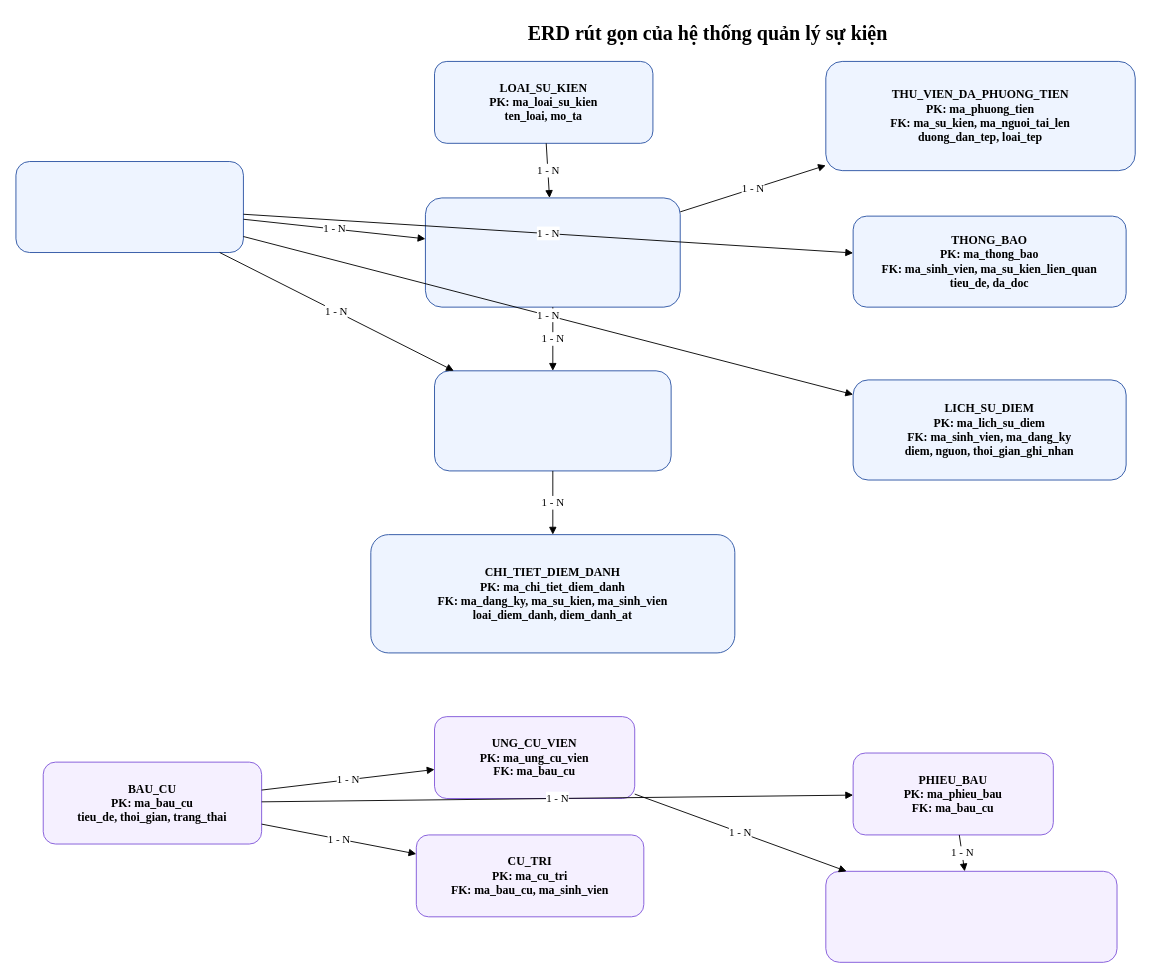
Some shapes in this 1151 by 978 pixel diagram are drawn without their labels. Here are the shapes that lost their labels. From the top down, the box of each, then its label:
(15, 161, 243, 253): NGUOI_DUNG PK: ma_sinh_vien vai_tro, ho_ten, lop, email
(425, 197, 680, 307): SU_KIEN PK: ma_su_kien FK: ma_loai_su_kien ten, thoi_gian, dia_diem, diem_cong
(434, 370, 671, 471): DANG_KY PK: ma_dang_ky FK: ma_sinh_vien, ma_su_kien trang_thai_tham_gia
(825, 870, 1117, 962): CHI_TIET_PHIEU_BAU PK: ma_chi_tiet_phieu_bau FK: ma_phieu_bau, ma_ung_cu_vien
